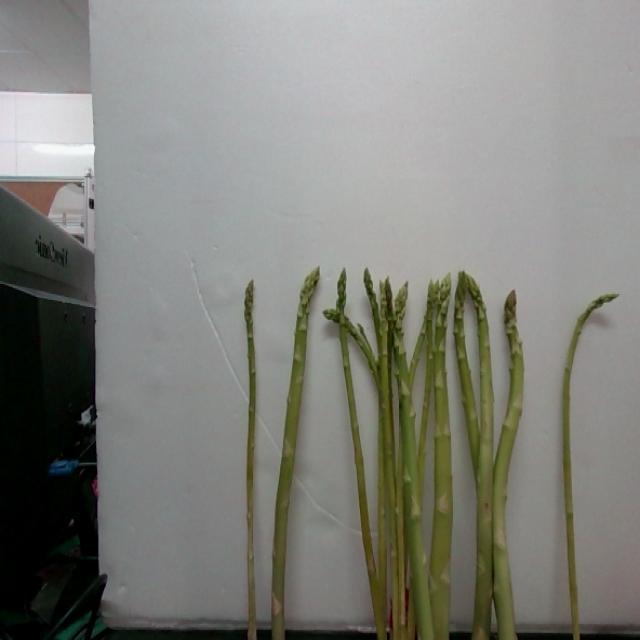aspargus: (560, 293, 618, 640), (273, 270, 320, 640), (493, 293, 525, 640), (243, 281, 257, 640)
